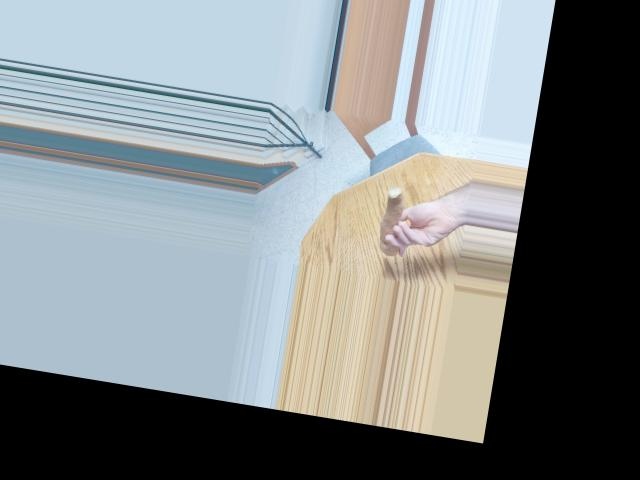sweet_potato: (375, 184, 414, 258)
